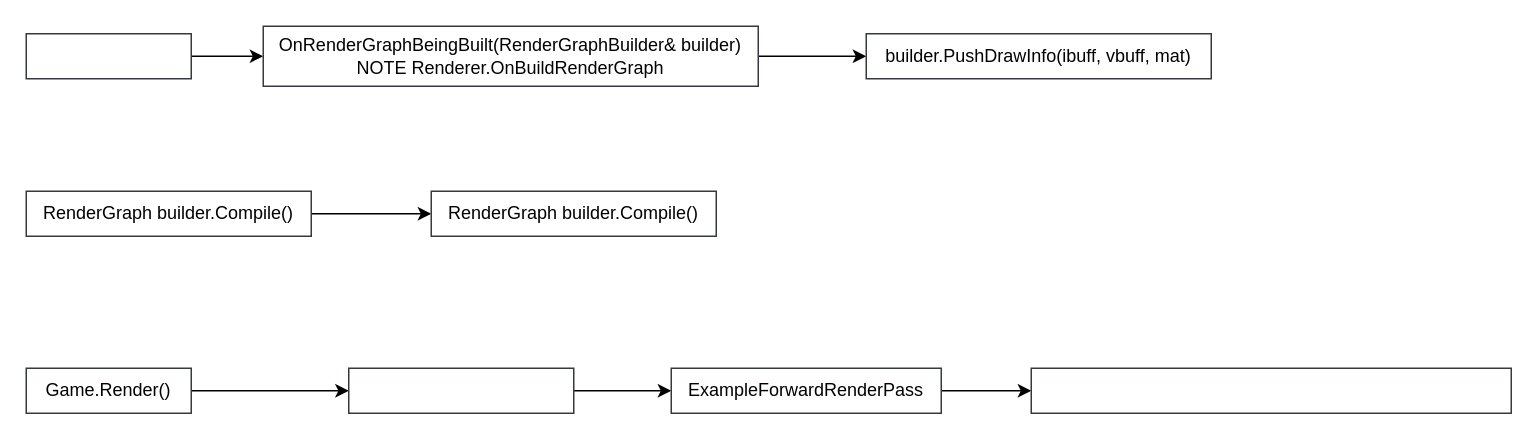
This 1538x440 diagram has some shape labels left out. Each missing label, with the centre of its shape:
ExecuteRenderGraph(): point 460,390
MeshComponent: point 108,55
newScene.DrawCmdList.ForEach => ProcessDrawCmd: point 1270,390
